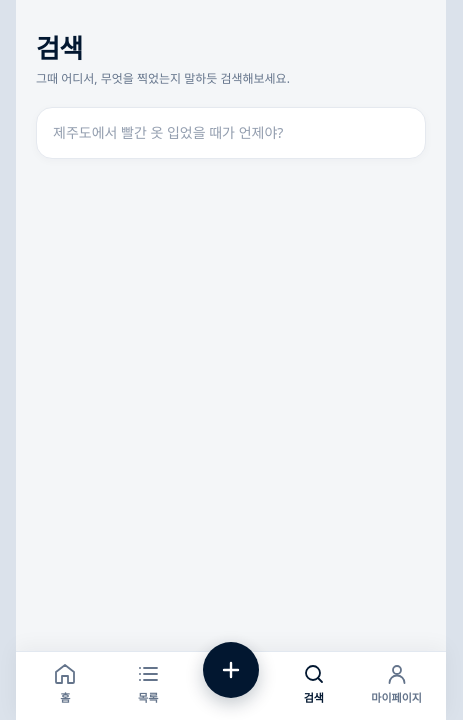
Test case: SearchPage › 두 글자 미만이면 검색하지 않고 안내한다
Type " a " into the search field named "검색어" at x=237, y=132, box [53,110,421,154]
Then press Enter
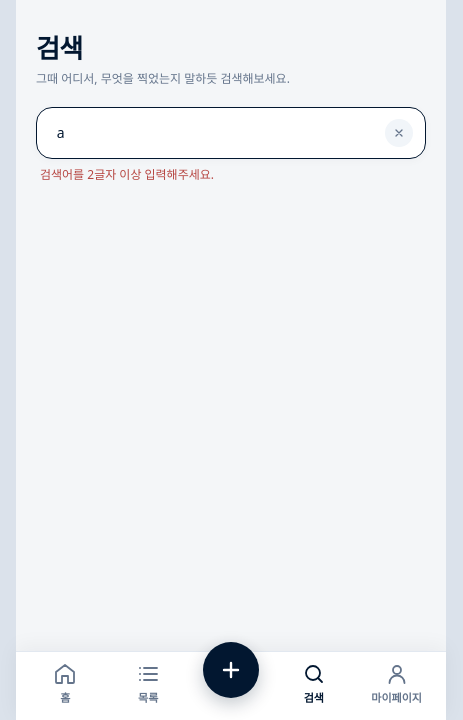
Result: the message reads "검색어를 2글자 이상 입력해주세요." at [40,166,214,182]
